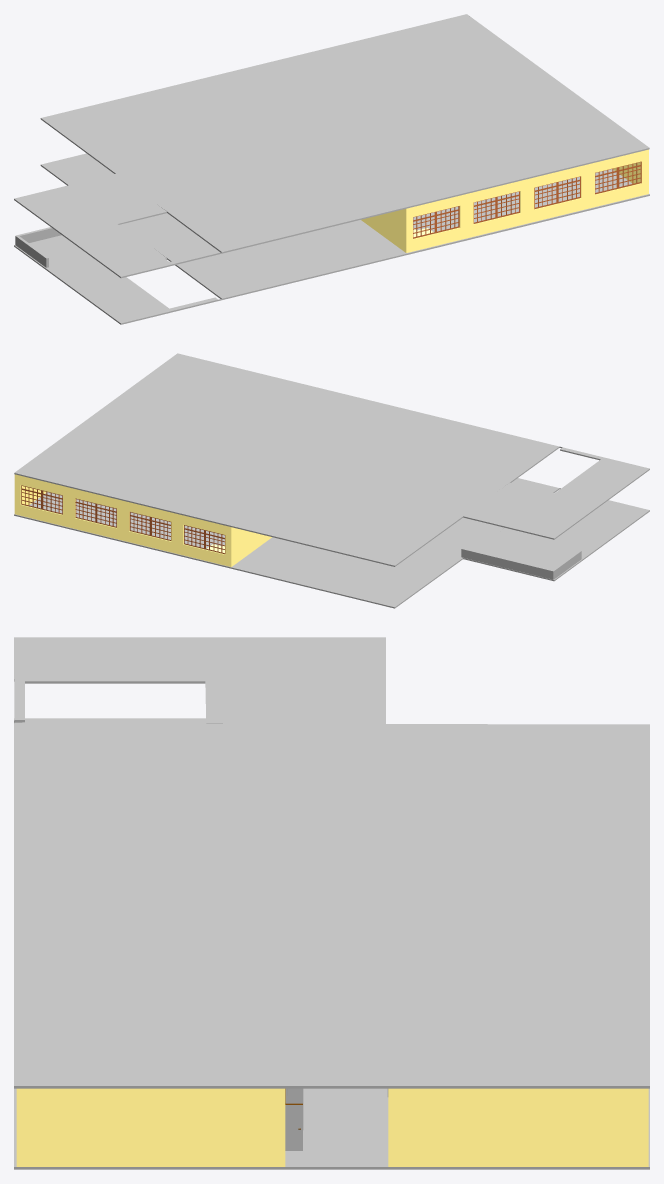
Rendered from Tang2fbx1.fbx.
3 views of the same model, one above another, from view 1: azimuth 30°, elevation 25°; view 2: azimuth 150°, elevation 25°; view 3: azimuth 270°, elevation 25° (orthographic). The views are drawn at different scales.
Parts seen in each view (by area): view 1: Cube.036, Cube.029, Mangtuong.022; view 2: Cube.036, Cube.029, Mangtuong.019; view 3: Cube.036, Mangtuong.022, Mangtuong.019, Cube.029, Porte.057.
Boxes of the visible parts, x1,y1,x2,y2 form: Cube.036: (14, 14, 649, 278); Cube.029: (14, 153, 649, 324); Mangtuong.022: (361, 149, 648, 252); Cube.036: (14, 353, 649, 566); Cube.029: (14, 478, 649, 608); Mangtuong.019: (14, 474, 271, 566); Cube.036: (14, 637, 649, 1088); Mangtuong.022: (16, 1088, 285, 1166); Mangtuong.019: (388, 1088, 648, 1166); Cube.029: (14, 718, 649, 1169); Porte.057: (285, 1103, 302, 1150).
Size of the model in its own units: 3926 by 340 by 2350.
